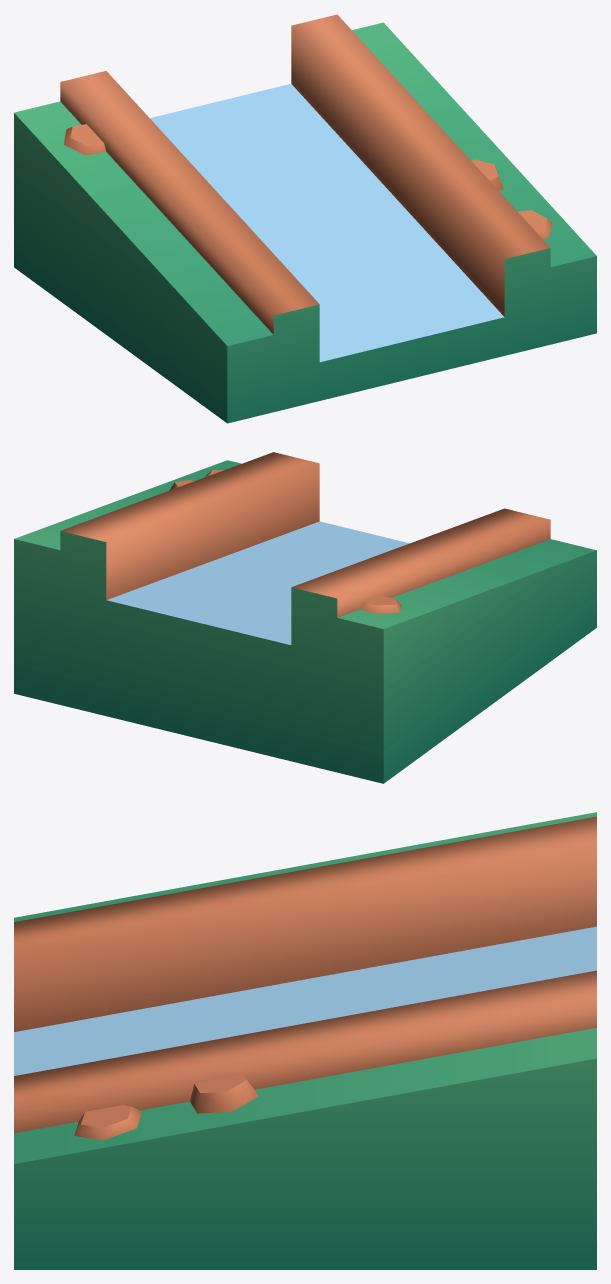
Rendered from kenney-tower-defense-tile-river-slope.glb.
3 renders of one model, top to bottom at view 1: azimuth 30°, elevation 25°; view 2: azimuth 150°, elevation 25°; view 3: azimuth 270°, elevation 25°, orthographic. The views are drawn at different scales.
Visible parts, largest first — view 1: tile-river-slope; view 2: tile-river-slope; view 3: tile-river-slope.
Part boxes in pixels (bbox=[...]): tile-river-slope: bbox=[14, 14, 596, 423]; tile-river-slope: bbox=[14, 452, 596, 783]; tile-river-slope: bbox=[14, 812, 596, 1269].
Bounding box in the file's own units: 1 × 0.45 × 1.
Materials: 1 (1 with a texture image).
